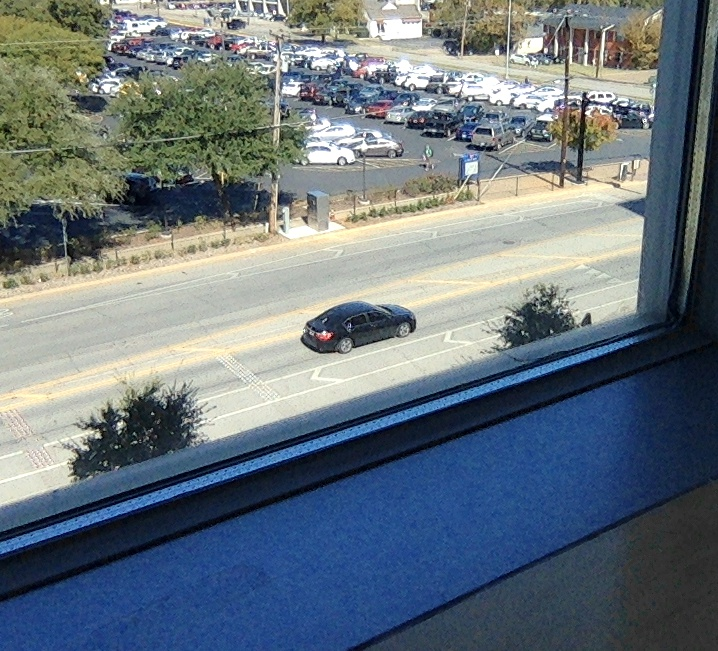car: (300, 300, 418, 355)
